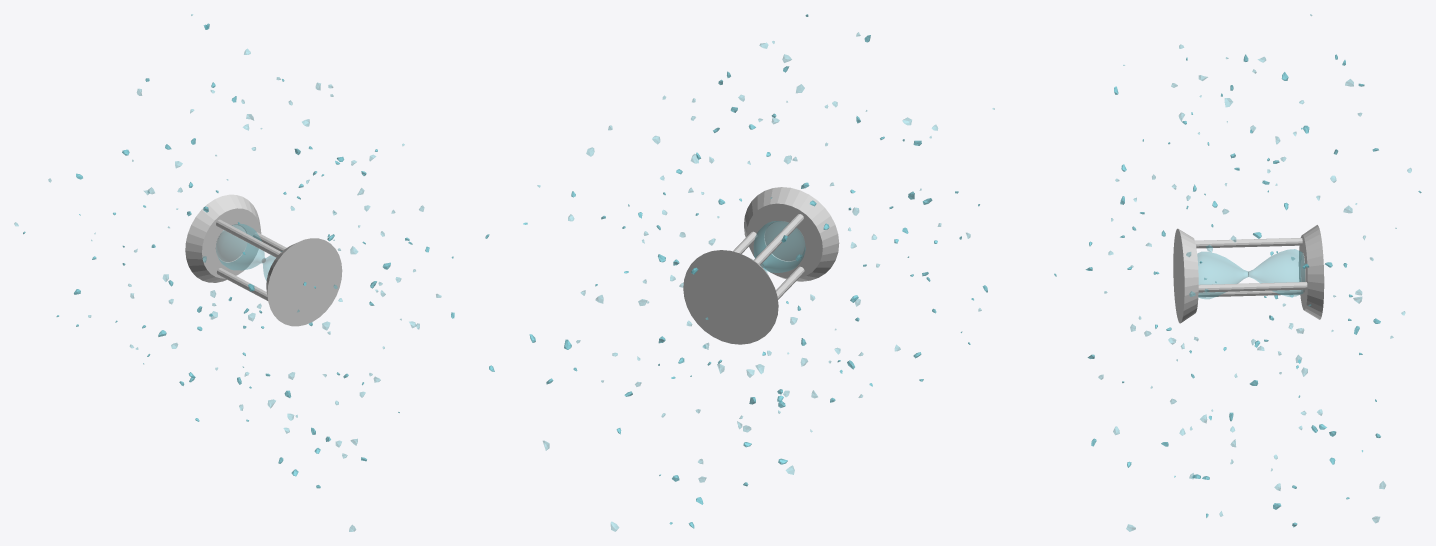
Rendered from model_hourglass_3D.glb.
3 views of the same model, side by side, from view 1: azimuth 30°, elevation 25°; view 2: azimuth 150°, elevation 25°; view 3: azimuth 270°, elevation 25° (orthographic). The views are drawn at different scales.
Visible parts, largest first — view 1: Hourglass; view 2: Hourglass; view 3: Hourglass.
Boxes of the visible parts, bbox=[...] form: Hourglass: bbox=[185, 194, 342, 326]; Hourglass: bbox=[683, 187, 839, 344]; Hourglass: bbox=[1173, 225, 1324, 323].
Bounding box in the file's own units: 21.68 × 22.97 × 14.54.
